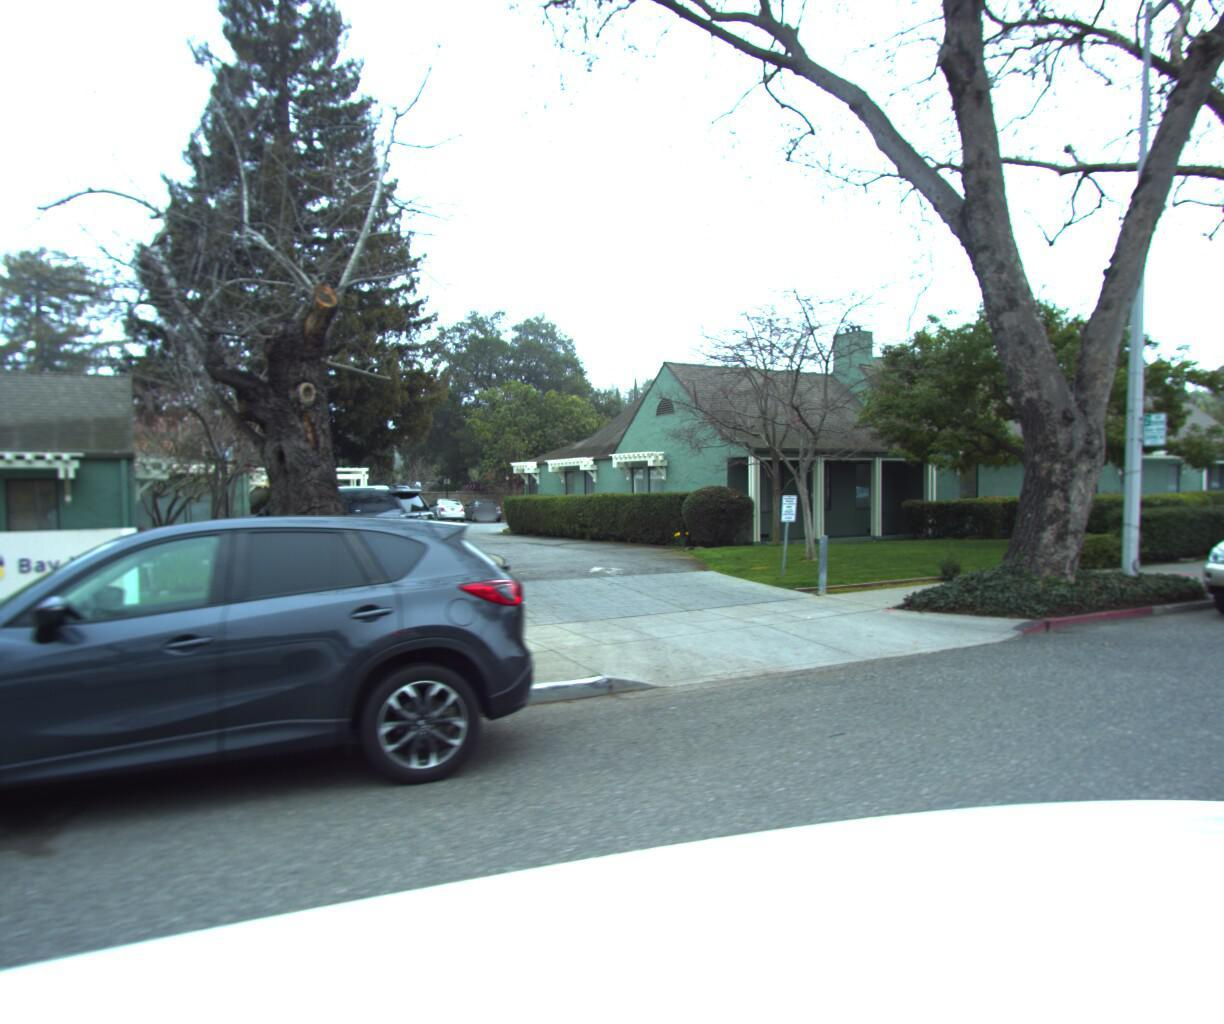car: (0, 501, 573, 953), (1184, 480, 1224, 637)
